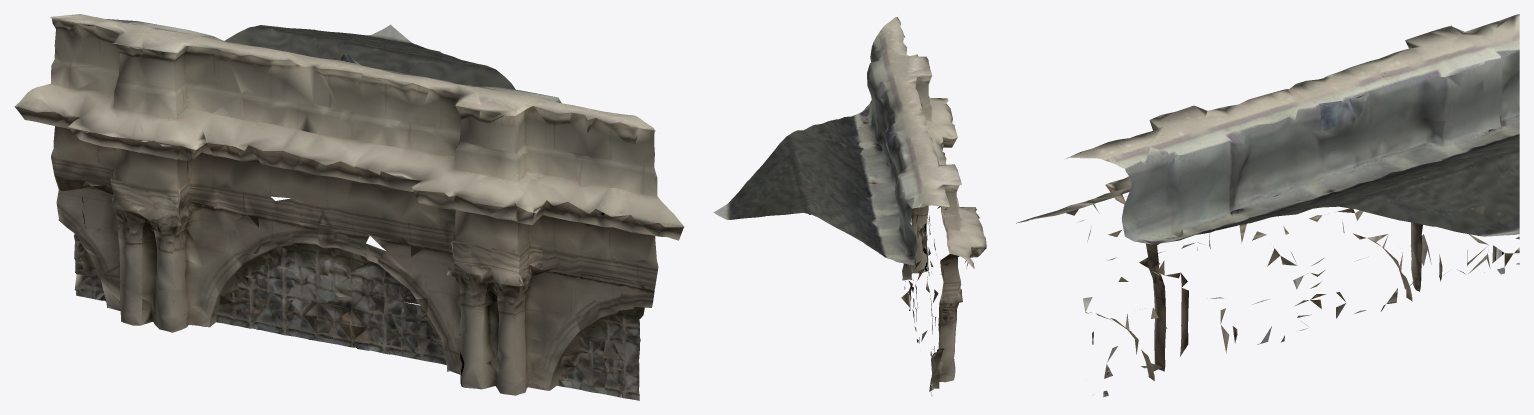
3 renders of one model, left to right at view 1: azimuth 30°, elevation 25°; view 2: azimuth 150°, elevation 25°; view 3: azimuth 270°, elevation 25°, orthographic. The views are drawn at different scales.
Size of the model in its own units: 10.87 by 7.86 by 14.69.
1 material, 1 textured.
